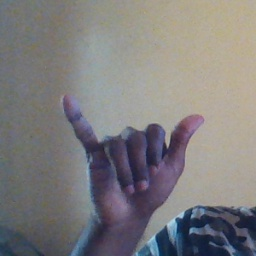J: (60, 91, 208, 222)
